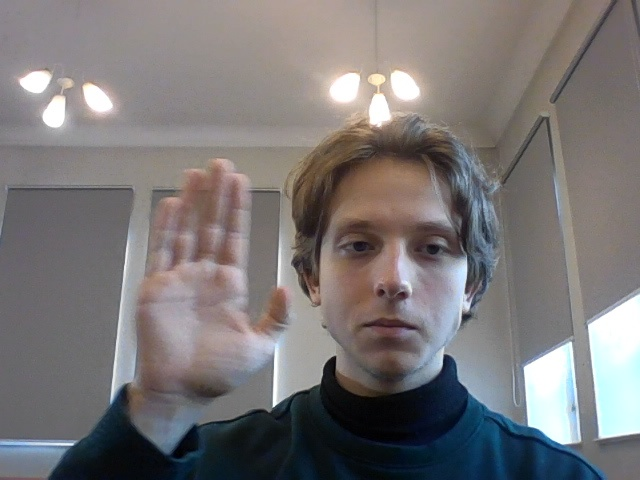hello: (140, 147, 298, 420)
